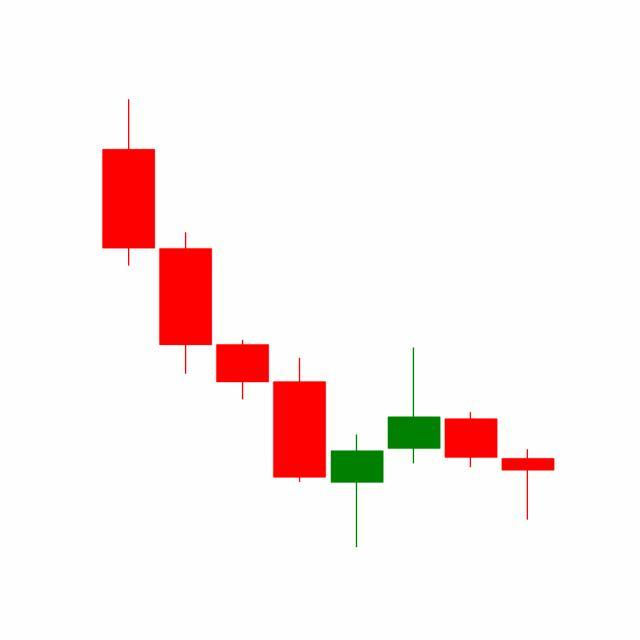Upside-Downside Gap Three Methods: (328, 344, 500, 548)
